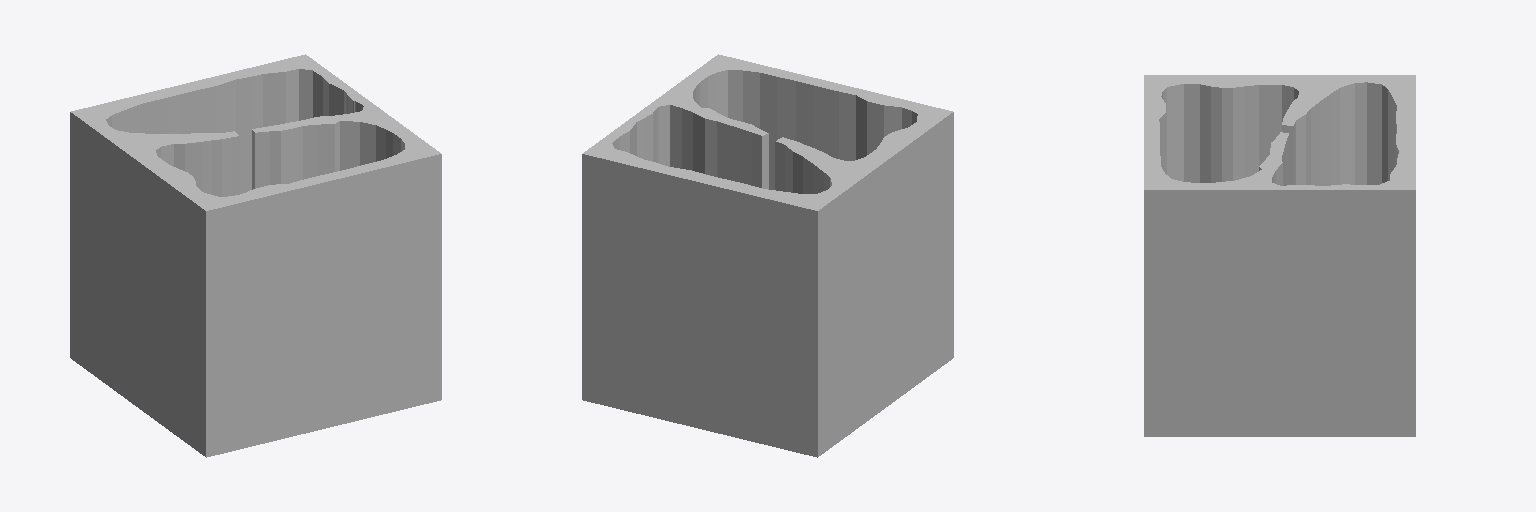
Rendered from TerrainBorderCollider.obj.
3 views of the same model, side by side, from view 1: azimuth 30°, elevation 25°; view 2: azimuth 150°, elevation 25°; view 3: azimuth 270°, elevation 25° (orthographic).
Parts seen in each view (by area): view 1: Collider; view 2: Collider; view 3: Collider.
Part boxes in pixels (bbox=[...]): Collider: bbox=[70, 54, 441, 457]; Collider: bbox=[582, 54, 953, 457]; Collider: bbox=[1144, 75, 1415, 436].
Bounding box in the file's own units: 13487 × 13487 × 13487.